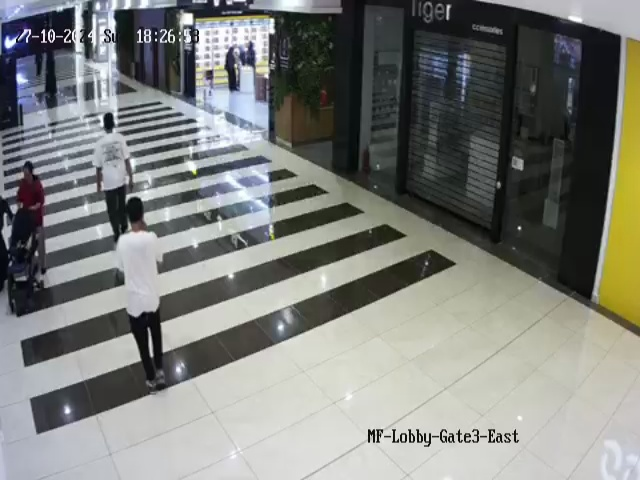female: (18, 163, 50, 284), (0, 196, 13, 295), (41, 50, 64, 102), (244, 32, 263, 68), (225, 44, 238, 92)
male: (113, 197, 169, 394), (92, 112, 134, 243)
